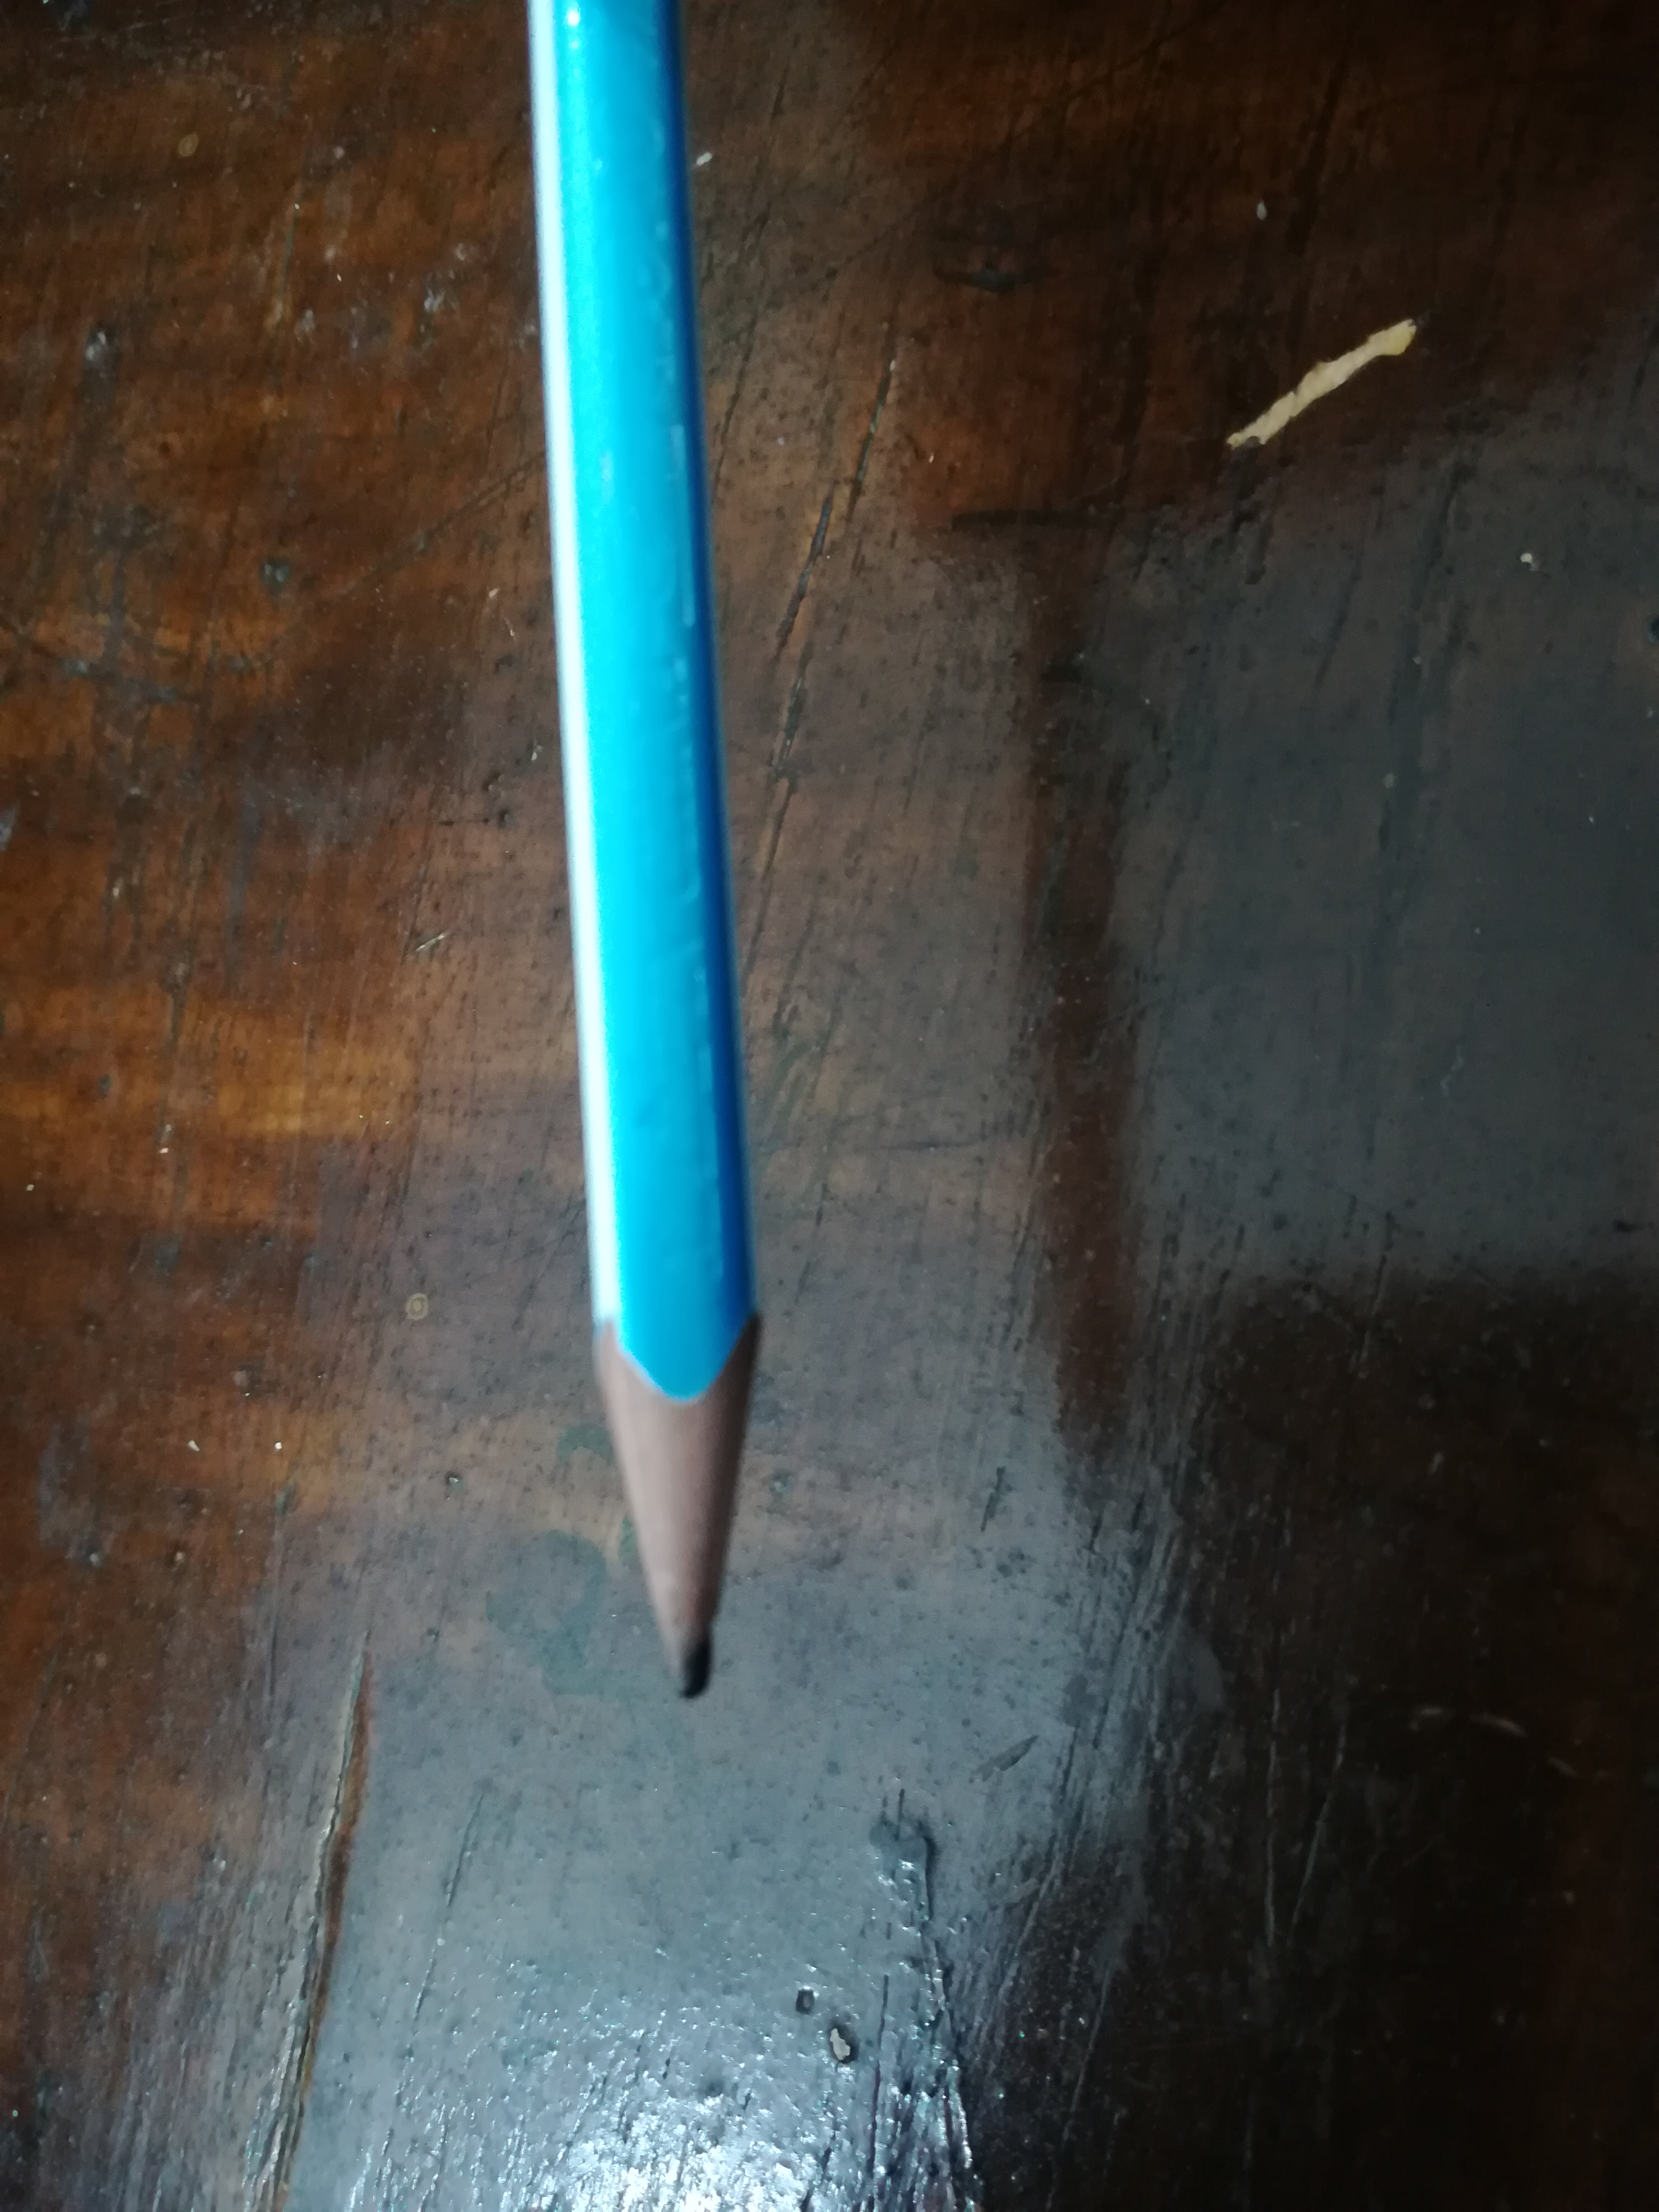pen_tip: (476, 1109, 945, 1811)
